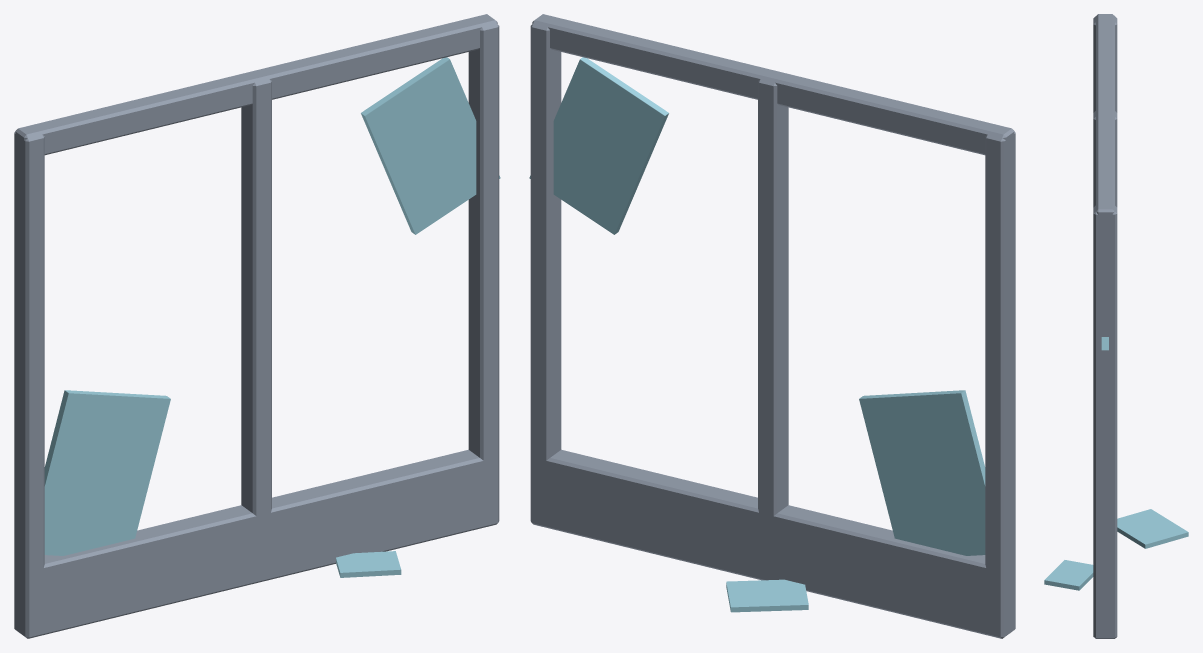
File: prop_glass_partition_broken.obj
3 renders of one model, left to right at view 1: azimuth 30°, elevation 25°; view 2: azimuth 150°, elevation 25°; view 3: azimuth 270°, elevation 25°, orthographic. The views are drawn at different scales.
Visible parts, largest first — view 1: BotRail, Shard1, TopRail, Post_-0.44, Post_1.44, Post_0.5, Shard2, FloorS2; view 2: BotRail, Shard1, TopRail, Post_-0.44, Post_1.44, Shard2, Post_0.5, FloorS1; view 3: Post_1.44, TopRail, FloorS1, FloorS2, Post_-0.44, Post_0.5, BotRail.
Boxes of the visible parts, box(x1,y1,x2,y2) form: BotRail: box(14, 449, 499, 638); Shard1: box(44, 390, 170, 555); TopRail: box(15, 14, 497, 156); Post_-0.44: box(14, 131, 44, 632); Post_1.44: box(468, 23, 499, 521); Post_0.5: box(241, 79, 271, 576); Shard2: box(361, 57, 500, 234); FloorS2: box(336, 551, 401, 577); BotRail: box(530, 449, 1015, 638); Shard1: box(859, 390, 985, 555); TopRail: box(532, 14, 1014, 157); Post_-0.44: box(985, 131, 1015, 632); Post_1.44: box(530, 23, 561, 520); Shard2: box(529, 57, 668, 234); Post_0.5: box(758, 79, 788, 516); FloorS1: box(726, 579, 808, 612); Post_1.44: box(1093, 205, 1117, 633); TopRail: box(1096, 14, 1114, 229); FloorS1: box(1117, 509, 1188, 548); FloorS2: box(1044, 560, 1093, 590); Post_-0.44: box(1093, 16, 1117, 112); Post_0.5: box(1093, 111, 1117, 207); BotRail: box(1093, 582, 1117, 638).
Size of the model in its own units: 1.98 by 1.99 by 0.6064.
